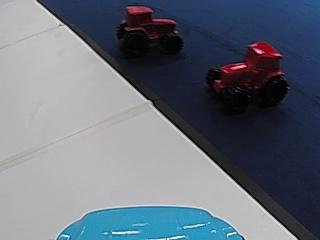Tracktor: (202, 39, 290, 110), (116, 3, 181, 55)
